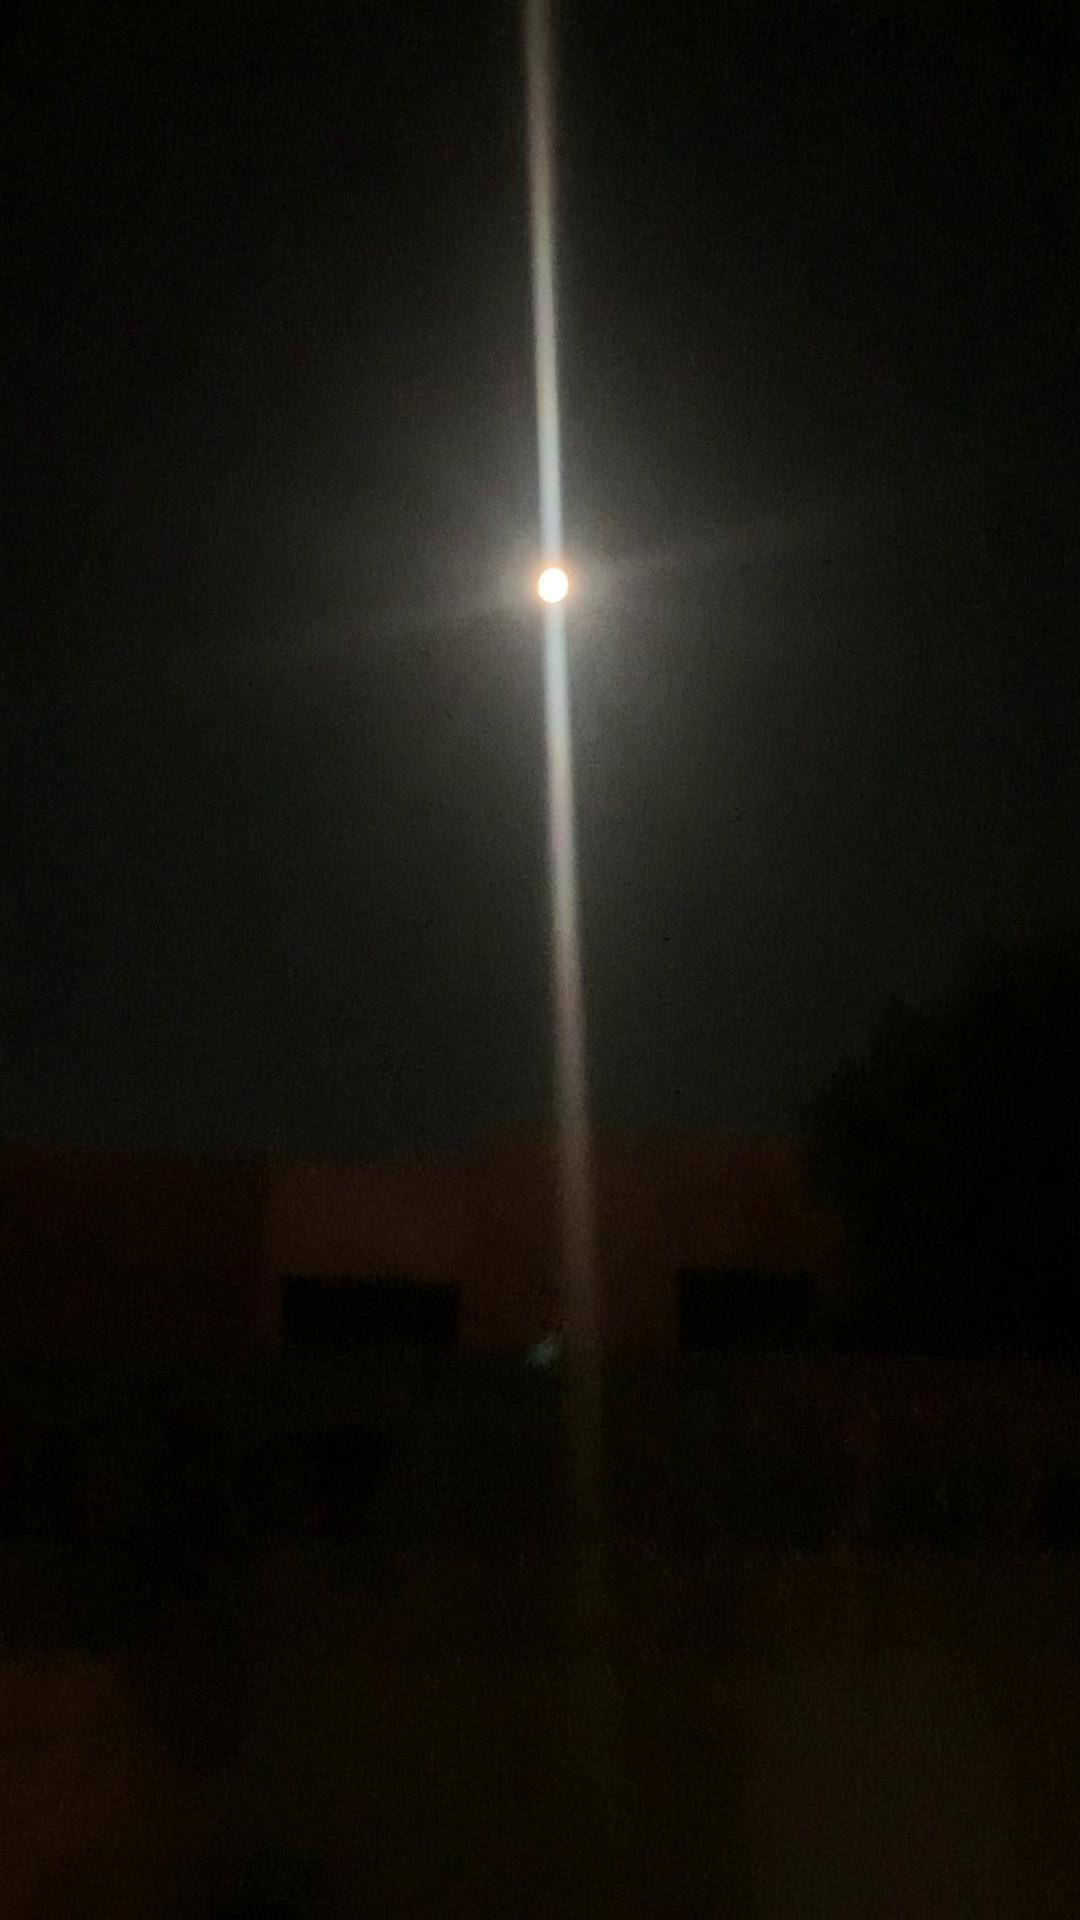moon: (505, 538, 613, 637)
